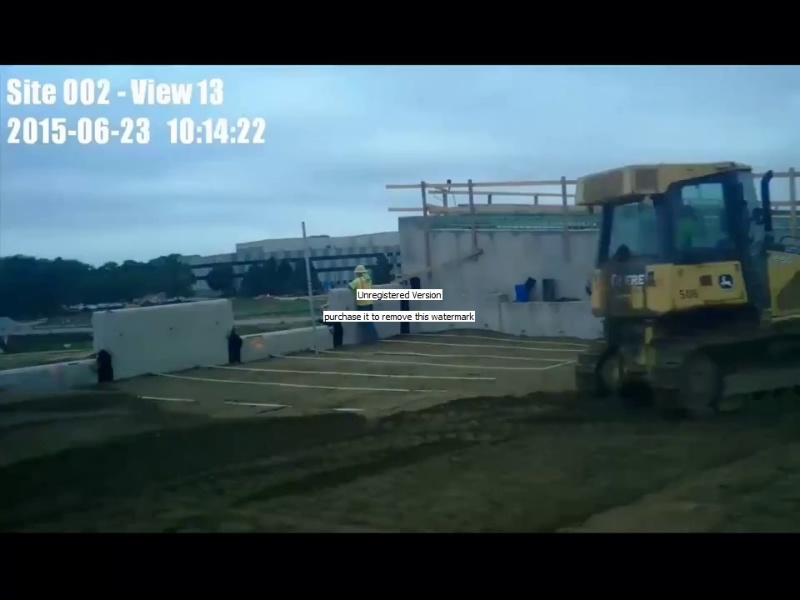bulldozer: (573, 159, 800, 413)
hardhat: (353, 263, 368, 273)
wall: (1, 288, 354, 405)
wood: (384, 178, 579, 215)
